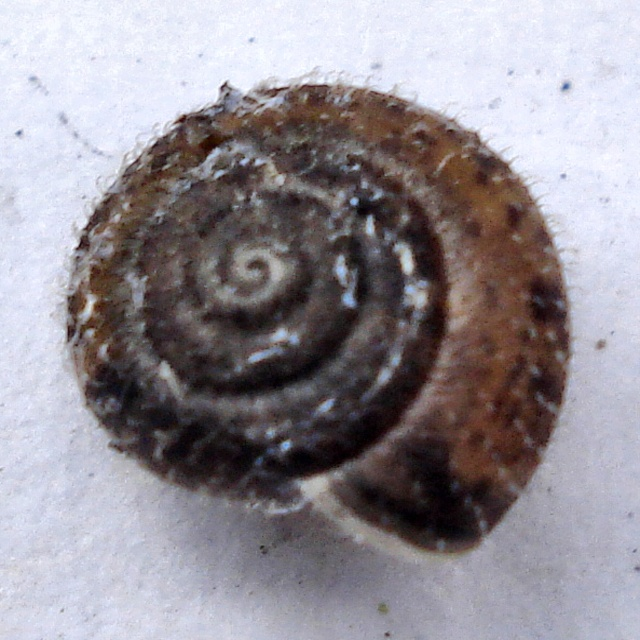Snail: (68, 79, 575, 570)
